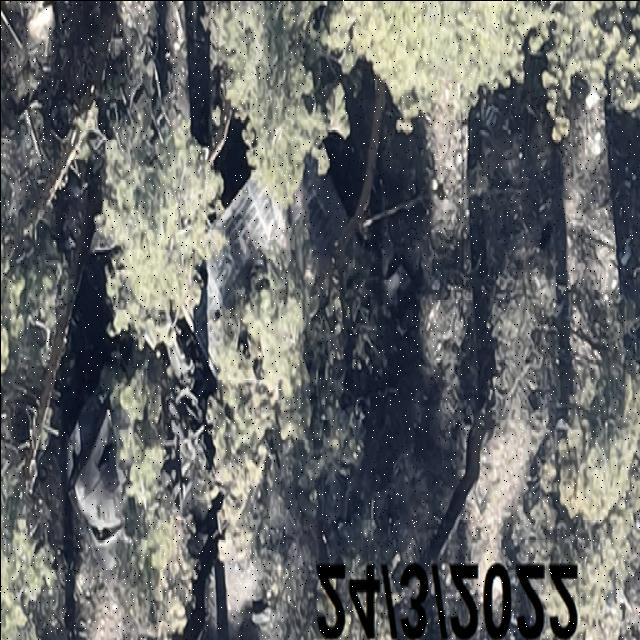TRUCK: (58, 118, 376, 558)
